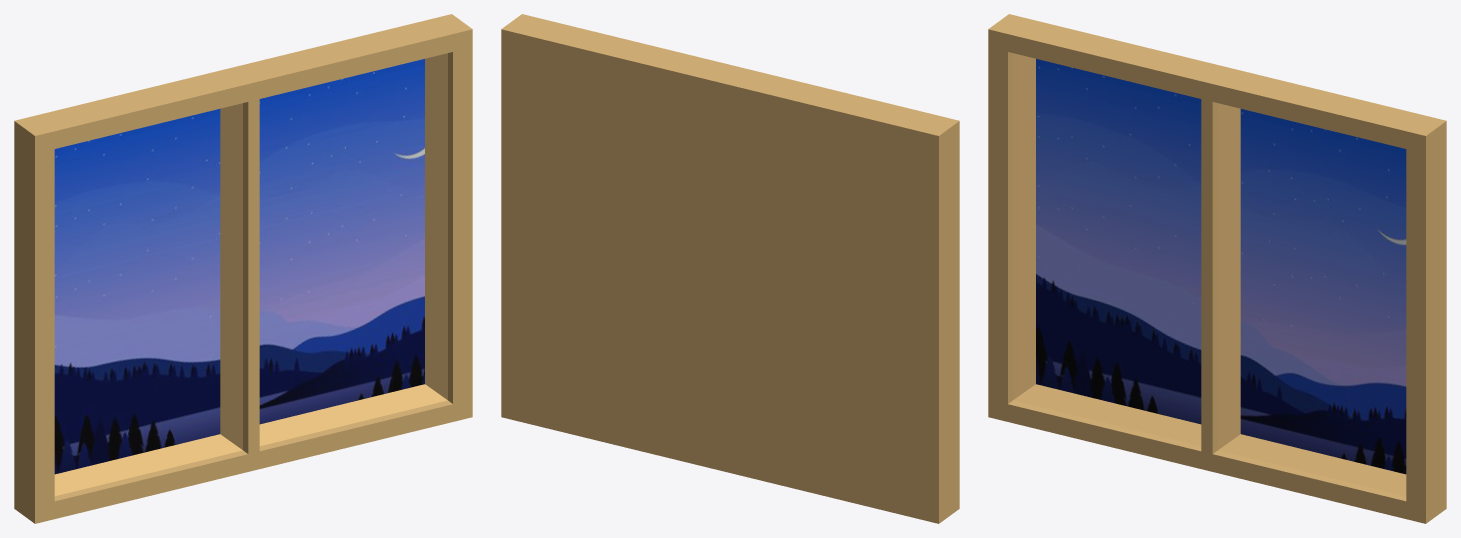
The model's file is Window.fbx.
3 renders of one model, left to right at view 1: azimuth 30°, elevation 25°; view 2: azimuth 150°, elevation 25°; view 3: azimuth 330°, elevation 25°, orthographic.
Parts seen in each view (by area): view 1: Object008; view 2: Object008; view 3: Object008.
Part boxes in pixels (x1,y1,x2,y2): Object008: [14, 14, 472, 523]; Object008: [501, 14, 959, 523]; Object008: [988, 14, 1446, 523].
Bounding box in the file's own units: 175 × 149 × 14.5.
